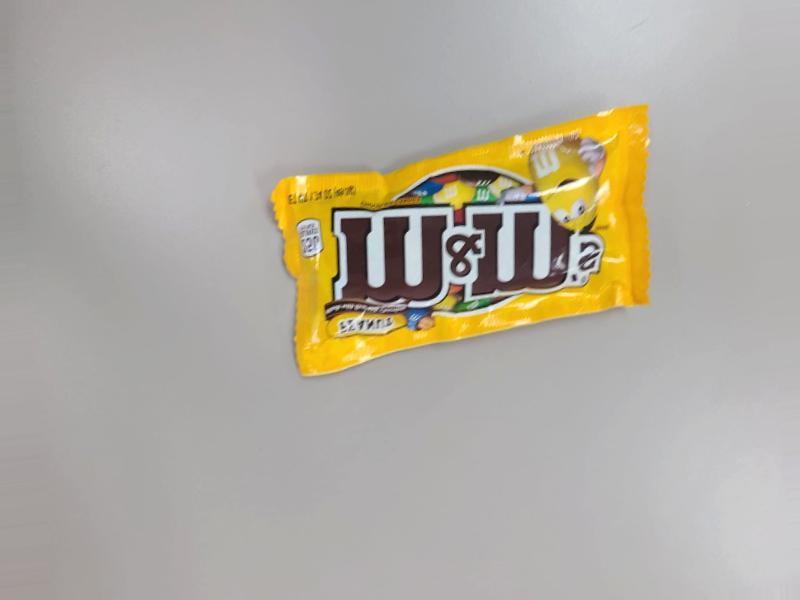m&m: (273, 89, 659, 379)
